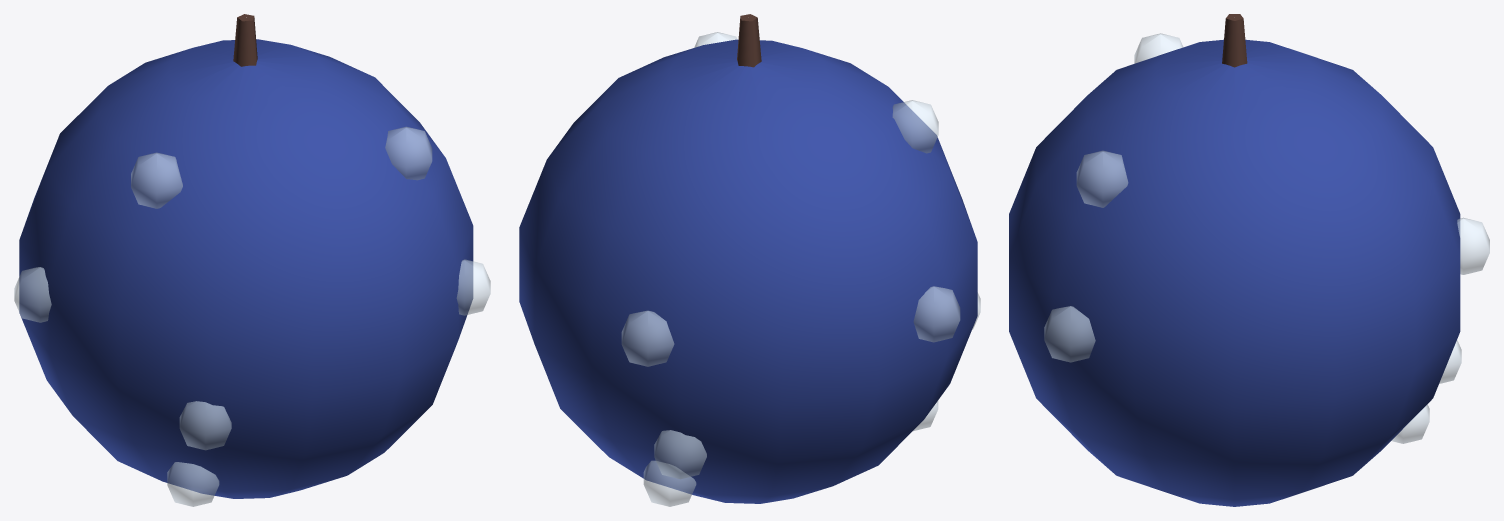
File: fruit-blueberry-wet.gltf
The picture shows the model from 3 angles, left to right: view 1: azimuth 30°, elevation 25°; view 2: azimuth 150°, elevation 25°; view 3: azimuth 270°, elevation 25°; orthographic projection.
Size of the model in its own units: 0.2505 by 0.264 by 0.2455.
